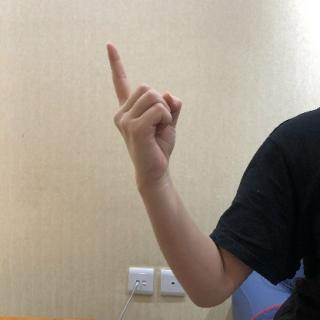RAA: (100, 40, 191, 198)
